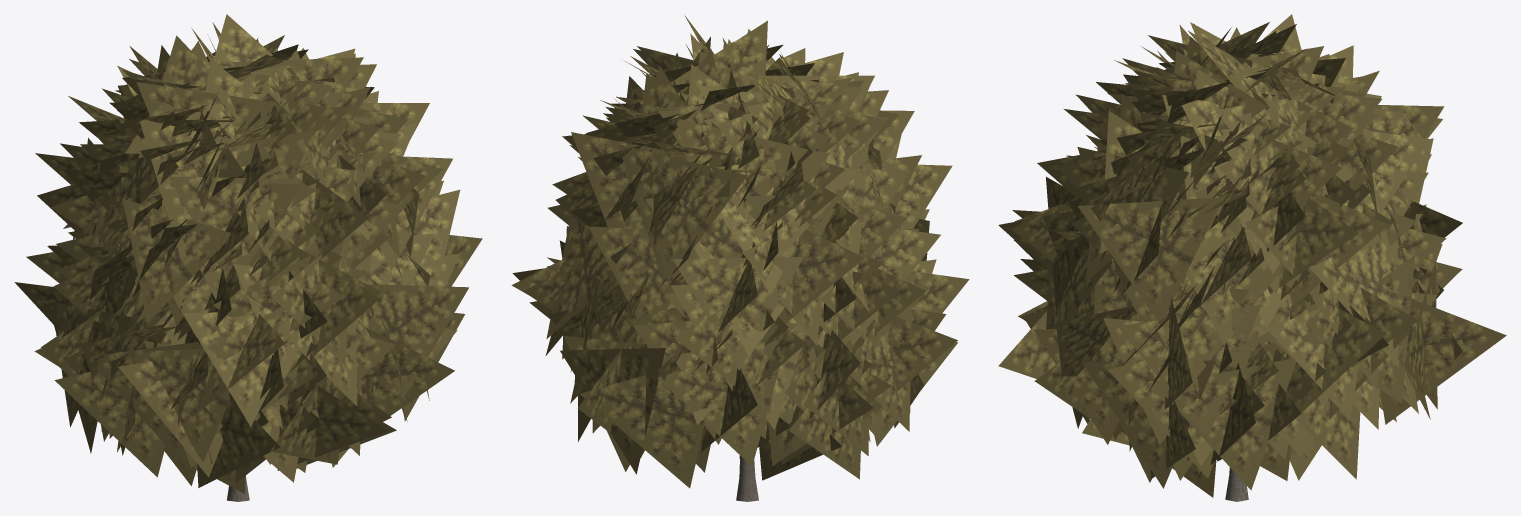
File: Quercus_Robur_Autumn_Young.glb
3 renders of one model, left to right at view 1: azimuth 30°, elevation 25°; view 2: azimuth 150°, elevation 25°; view 3: azimuth 270°, elevation 25°, orthographic. The views are drawn at different scales.
Visible parts, largest first — view 1: Quercus_Robur_Autumn_Young__LOD3; view 2: Quercus_Robur_Autumn_Young__LOD3; view 3: Quercus_Robur_Autumn_Young__LOD3.
Boxes of the visible parts, <box> form: Quercus_Robur_Autumn_Young__LOD3: <box>14,14,482,501</box>; Quercus_Robur_Autumn_Young__LOD3: <box>511,16,969,501</box>; Quercus_Robur_Autumn_Young__LOD3: <box>998,14,1506,501</box>.
Bounding box in the file's own units: 13.43 × 13.86 × 13.63.
2 materials, 2 textured.
